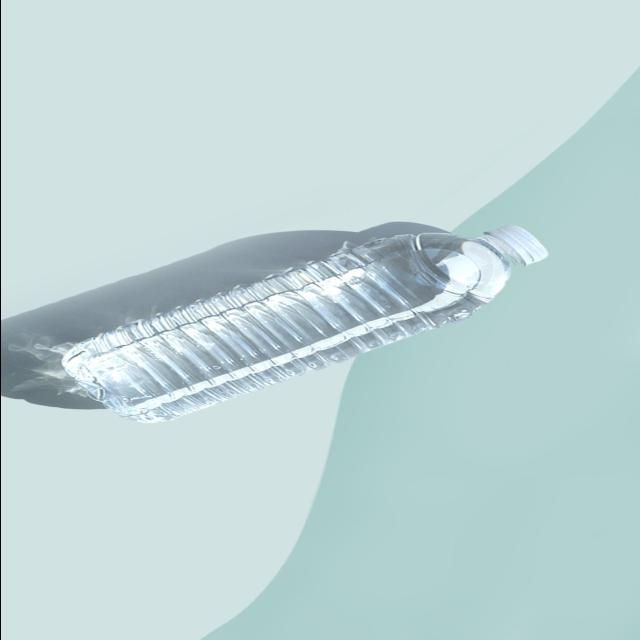bottle: (41, 218, 590, 431)
